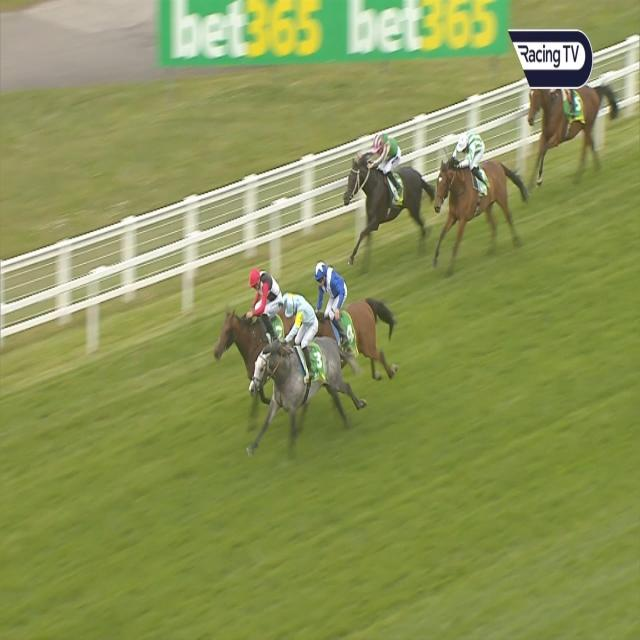horses-racing: (254, 289, 358, 457), (522, 70, 628, 186), (432, 128, 516, 274), (331, 127, 433, 237), (309, 262, 393, 368), (219, 267, 293, 362)
